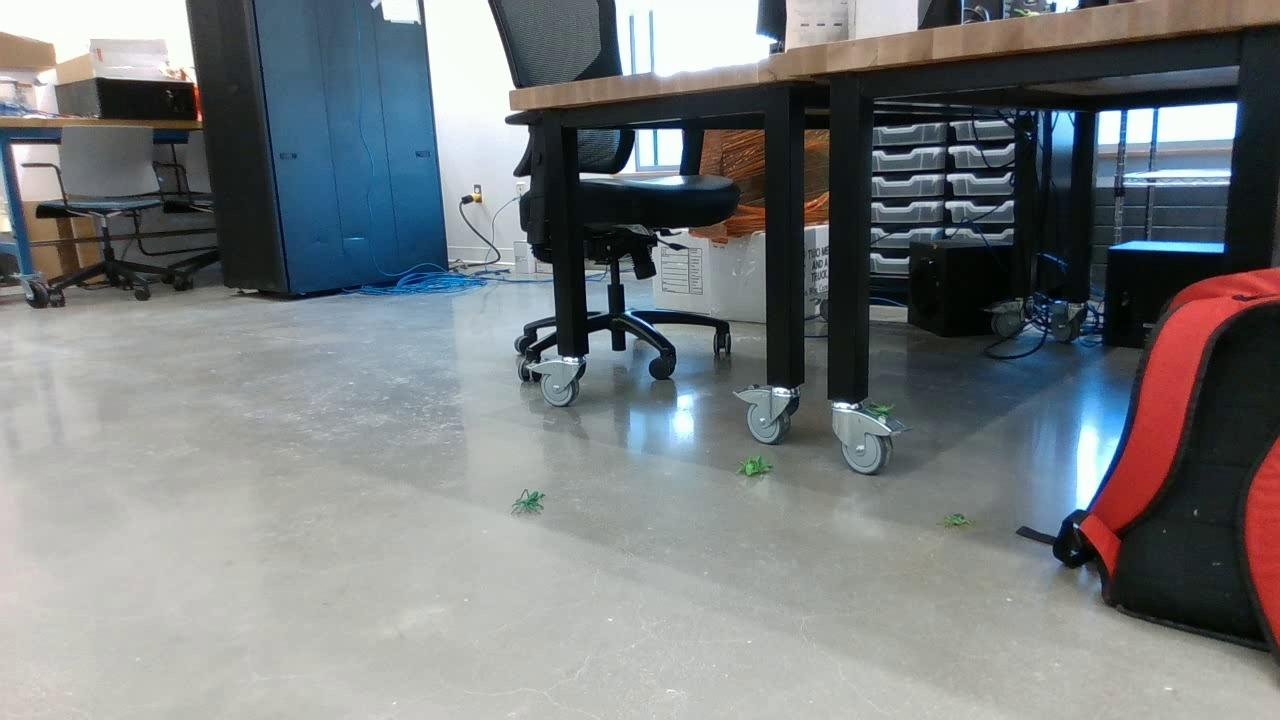grasshopper: (734, 458, 774, 476)
